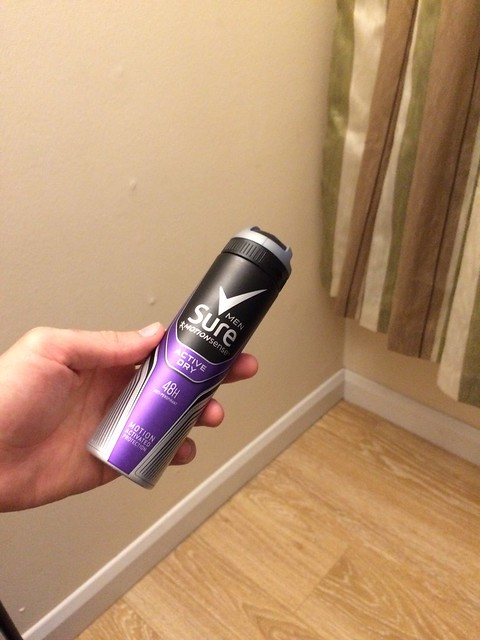can: (100, 212, 290, 482)
